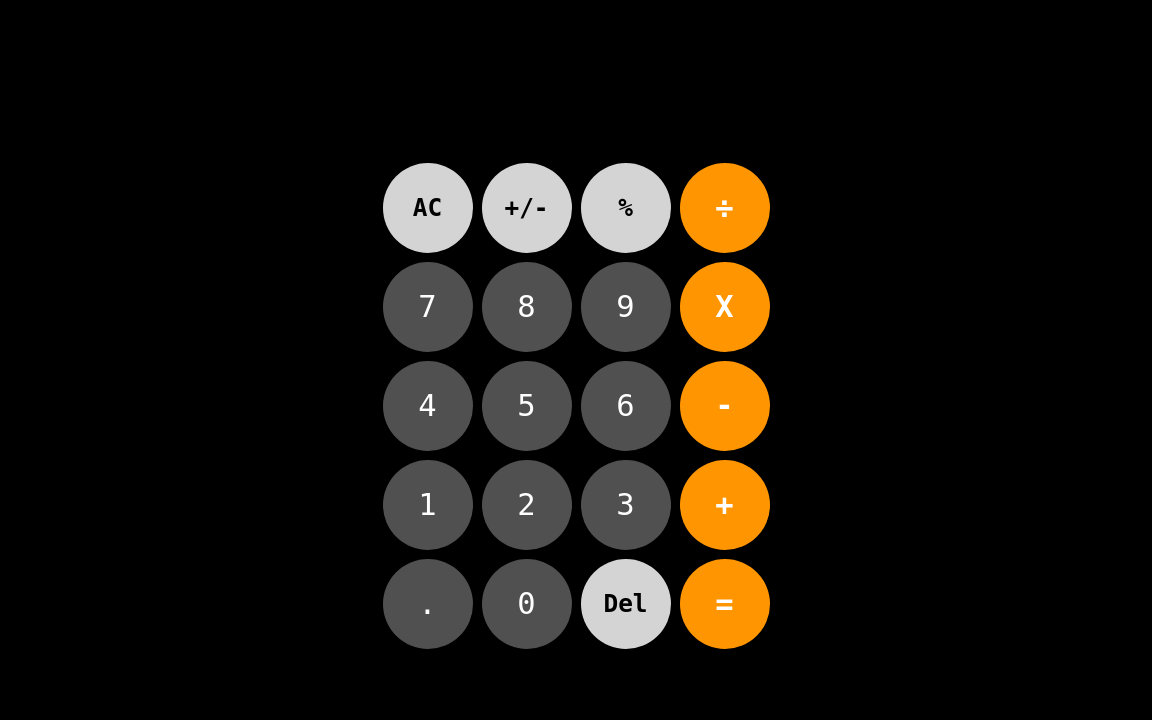
Test case: using calculator buttons as inputs › should accurately perform '10% ='
Click the button "1".
click(428, 505)  # box [382,460,472,550]
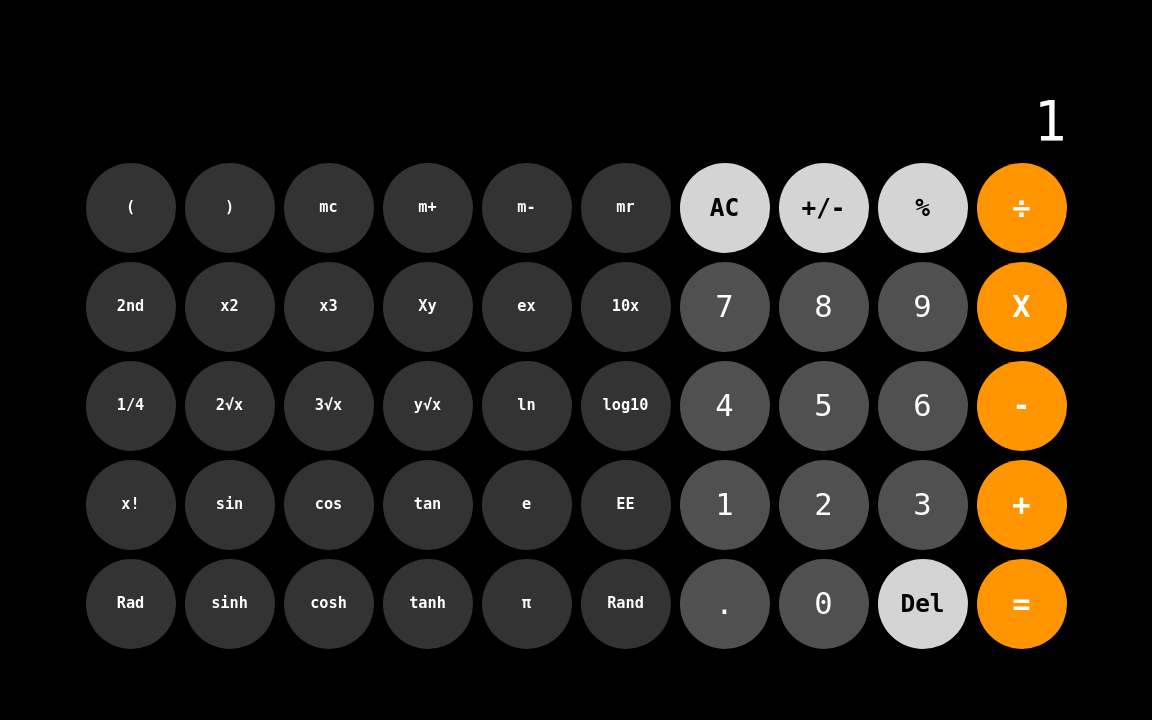
Click the button "0".
click(824, 604)  # box [778,559,868,649]
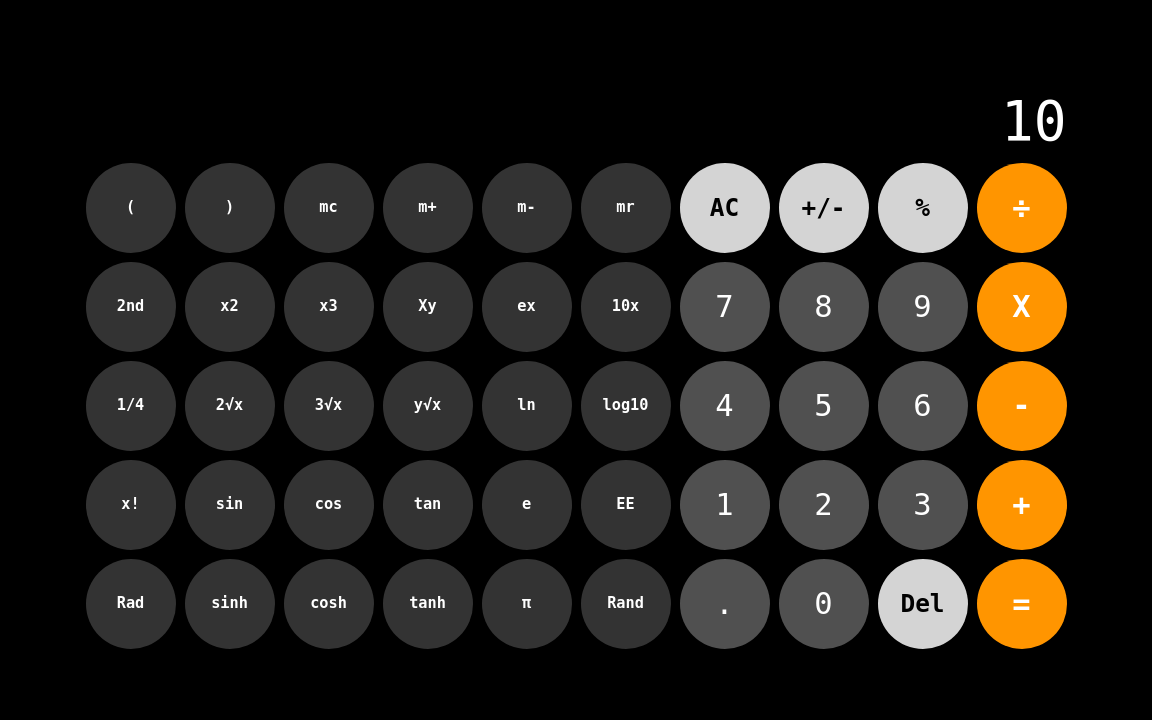
Click the button "%".
click(922, 208)  # box [878,163,968,253]
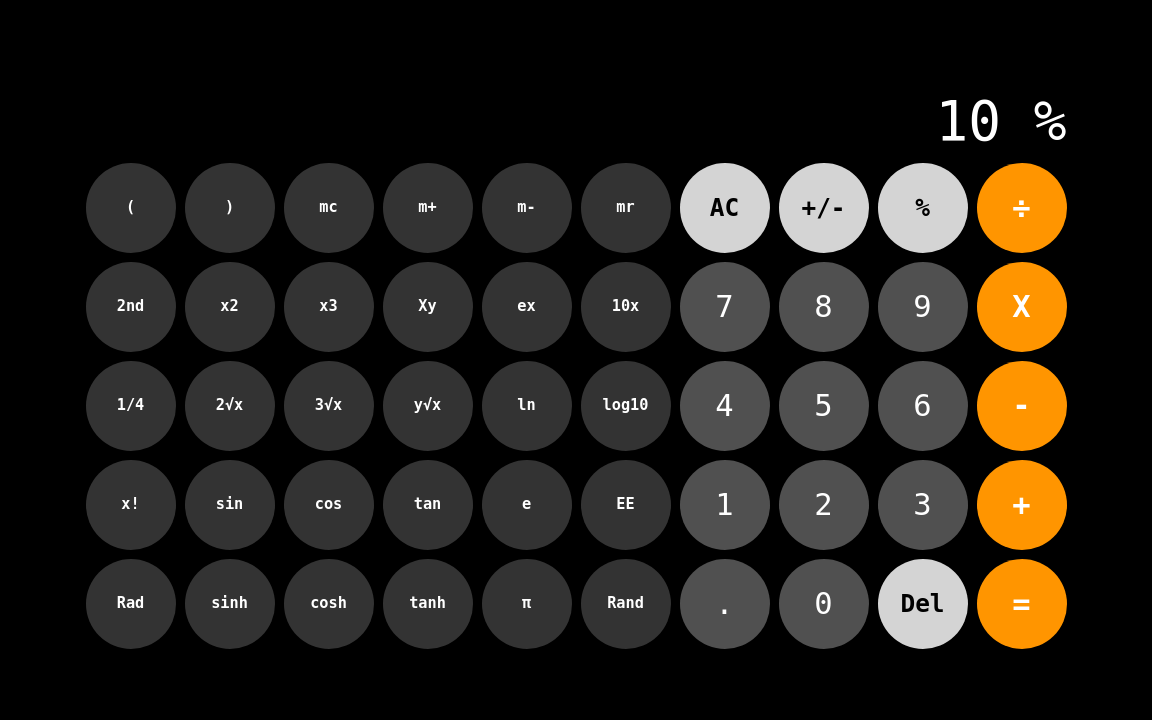
Click the button "=".
click(1022, 604)  # box [976,559,1066,649]
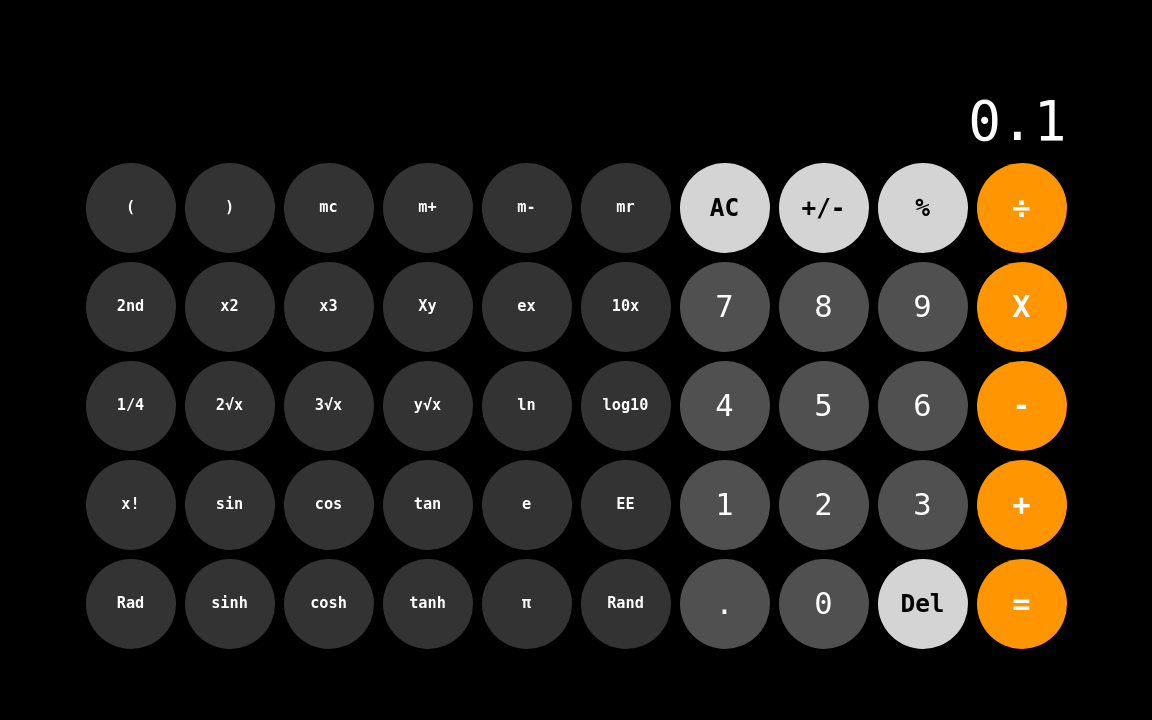
Now the heading with test id "answer-output" reads "0.1", box [968,89,1066,153]
